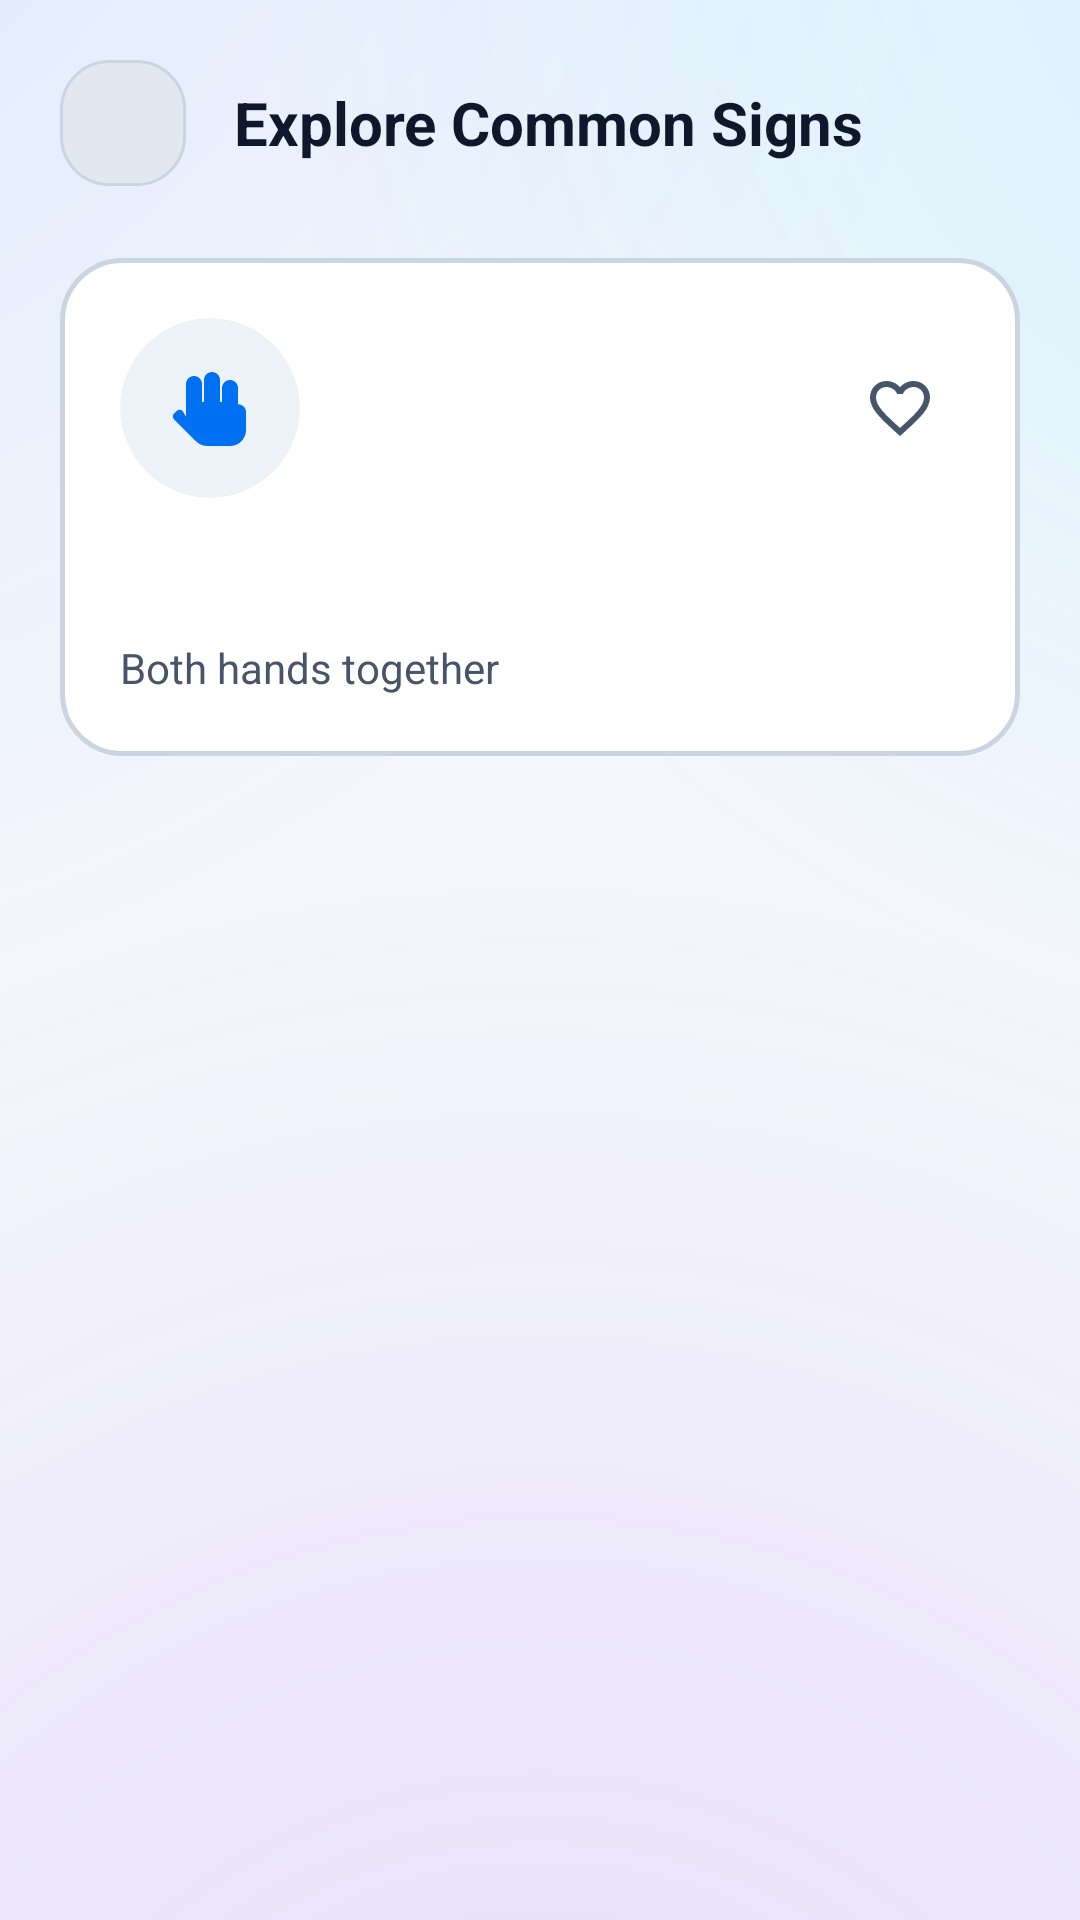

Screen size 1080×1920. Icon name, then its center in pixels as (x=x, y=y):
Favorite: (x=900, y=408)
Sign Icon: (x=209, y=409)
